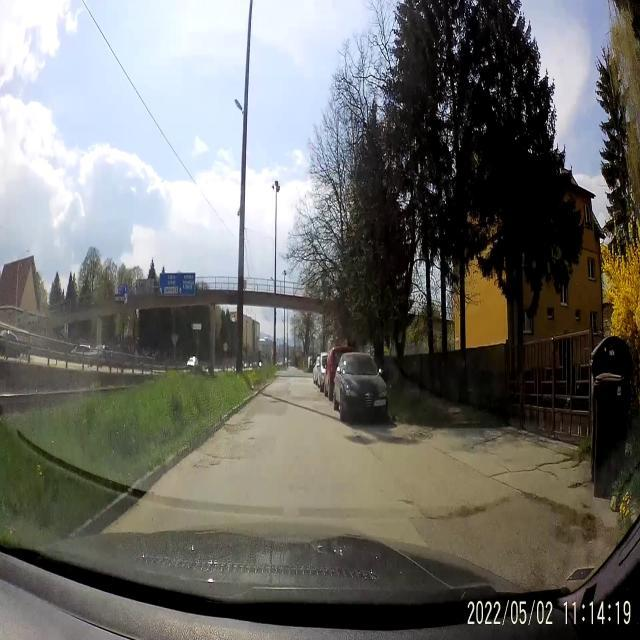Pothole: (220, 412, 250, 442), (195, 450, 224, 475), (568, 478, 586, 492)
